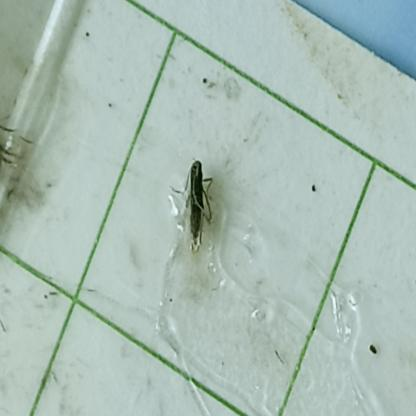prays_oleae: (172, 150, 224, 247)
